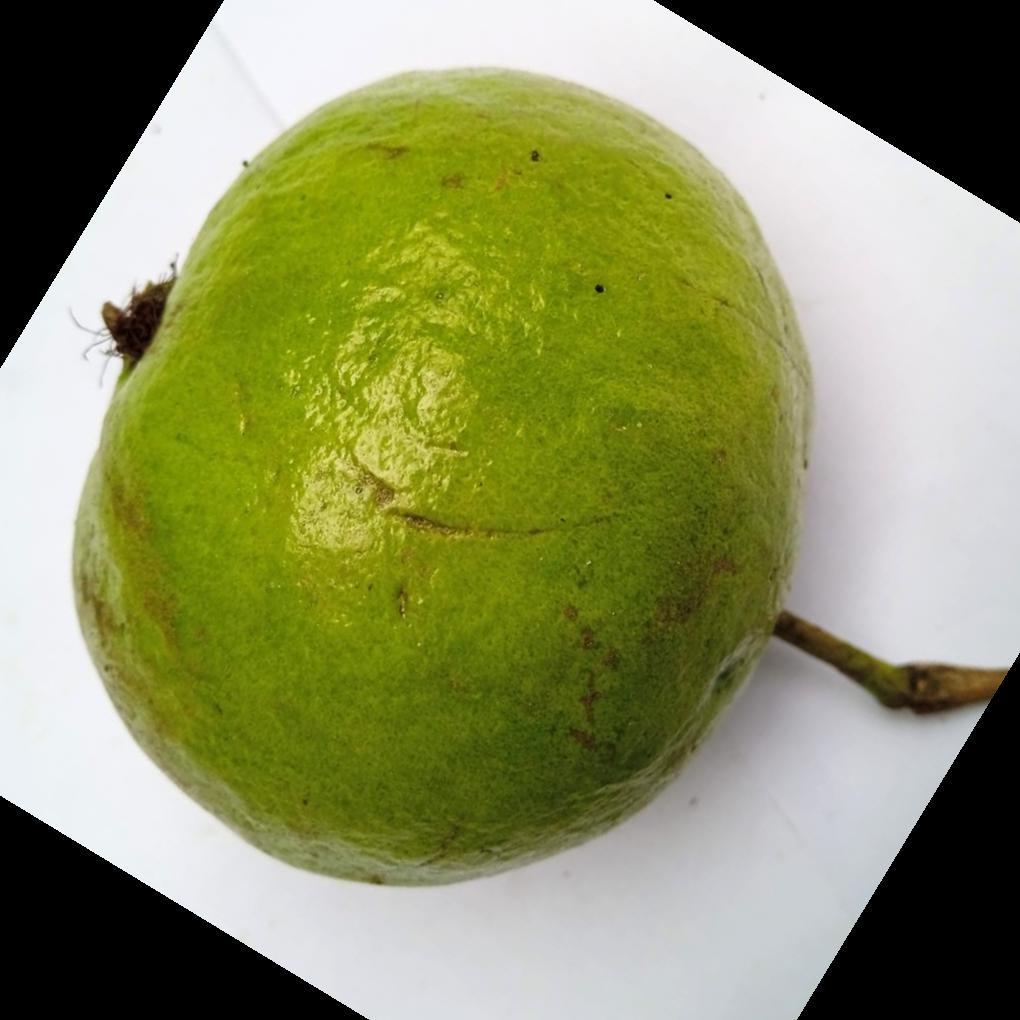FreshGuava: (69, 67, 815, 893)
